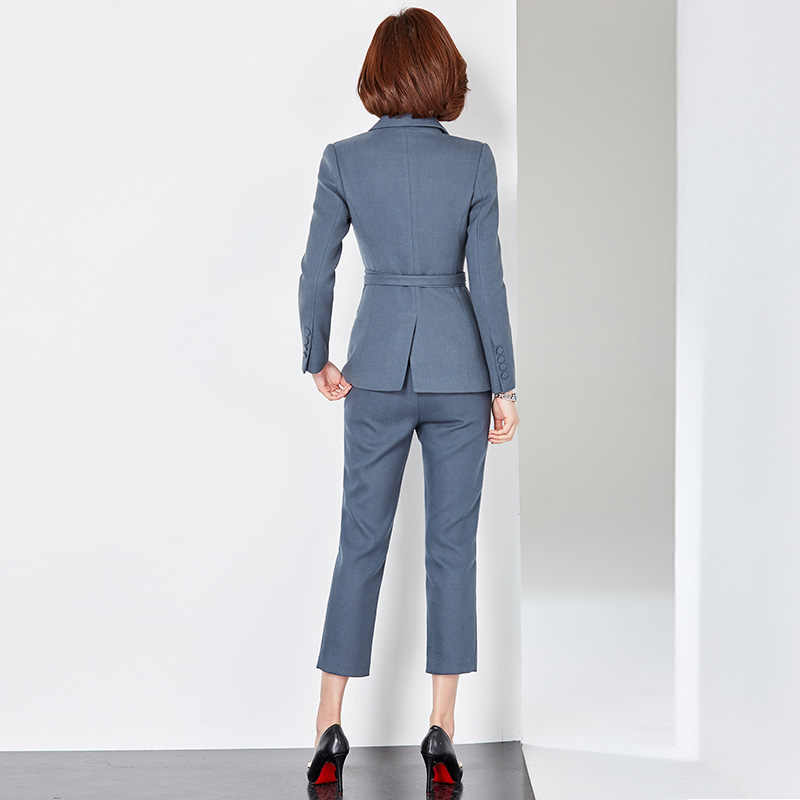F_W_suit jacket: (296, 117, 522, 409)
